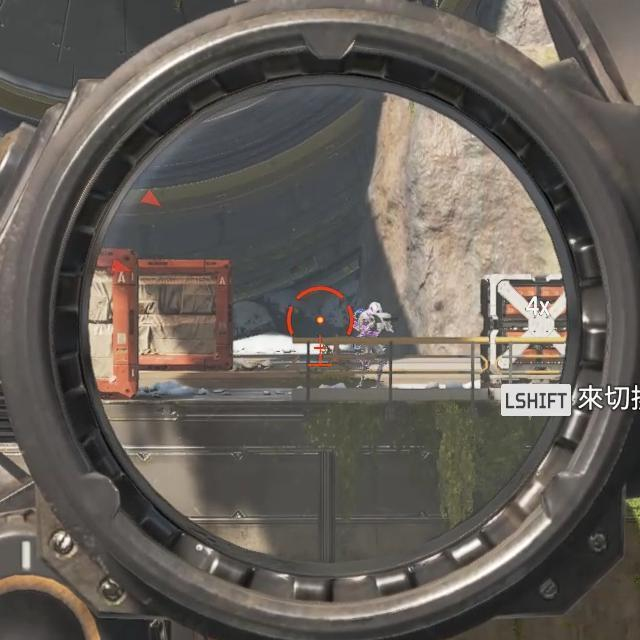avatar: (351, 299, 394, 391)
